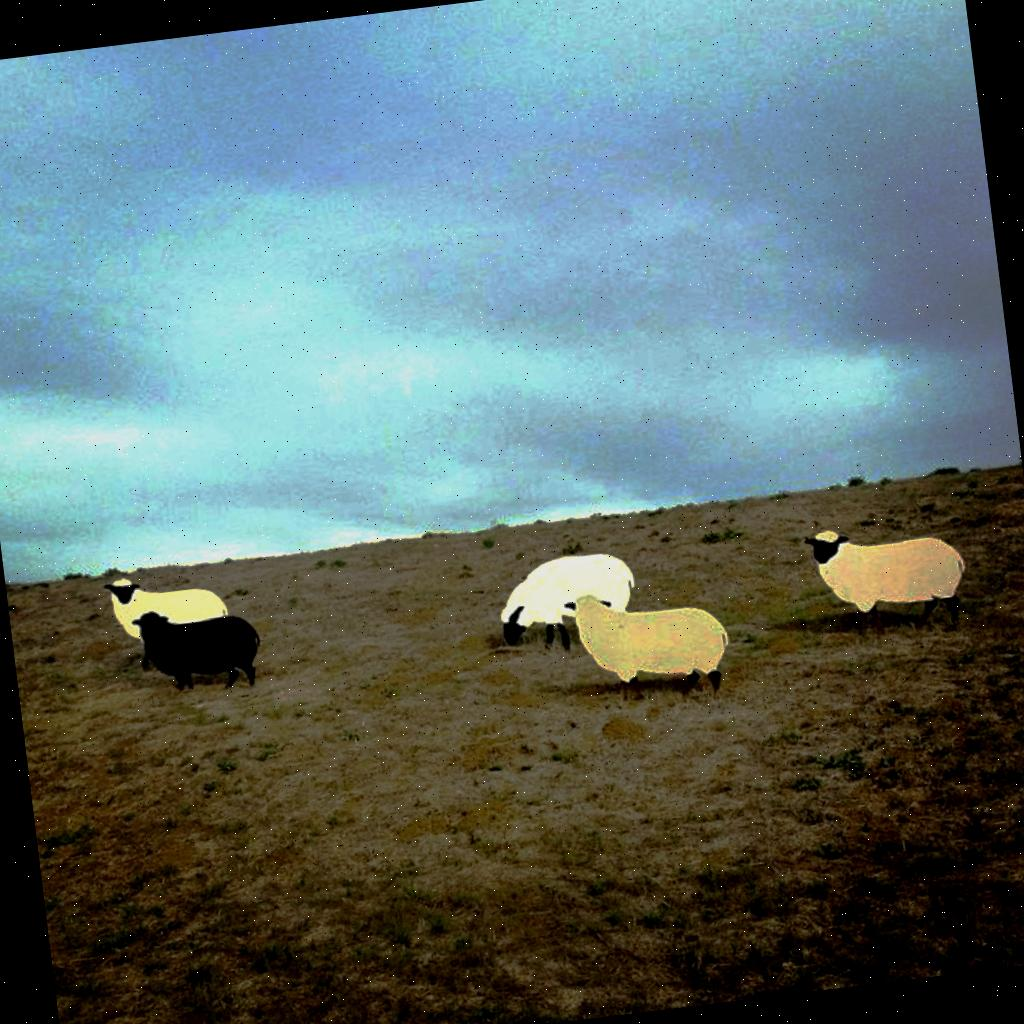Sheep: (558, 575, 733, 706), (804, 512, 972, 647), (494, 546, 651, 652), (134, 598, 266, 698), (100, 564, 234, 644)
